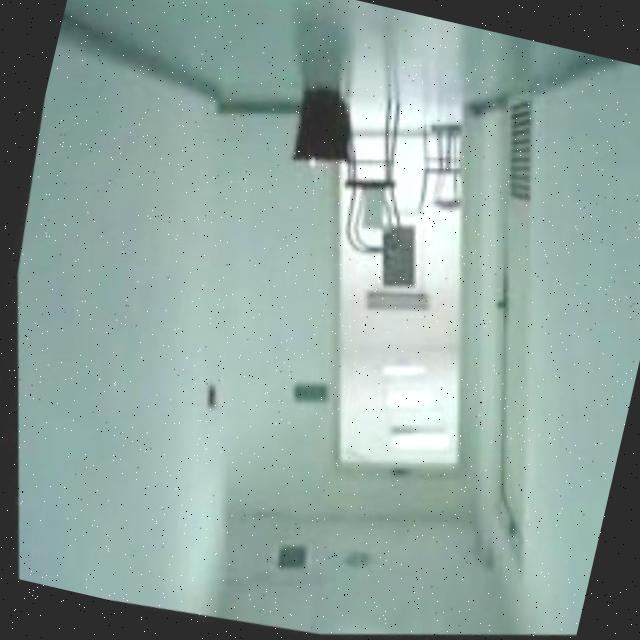fire: (285, 151, 326, 183)
